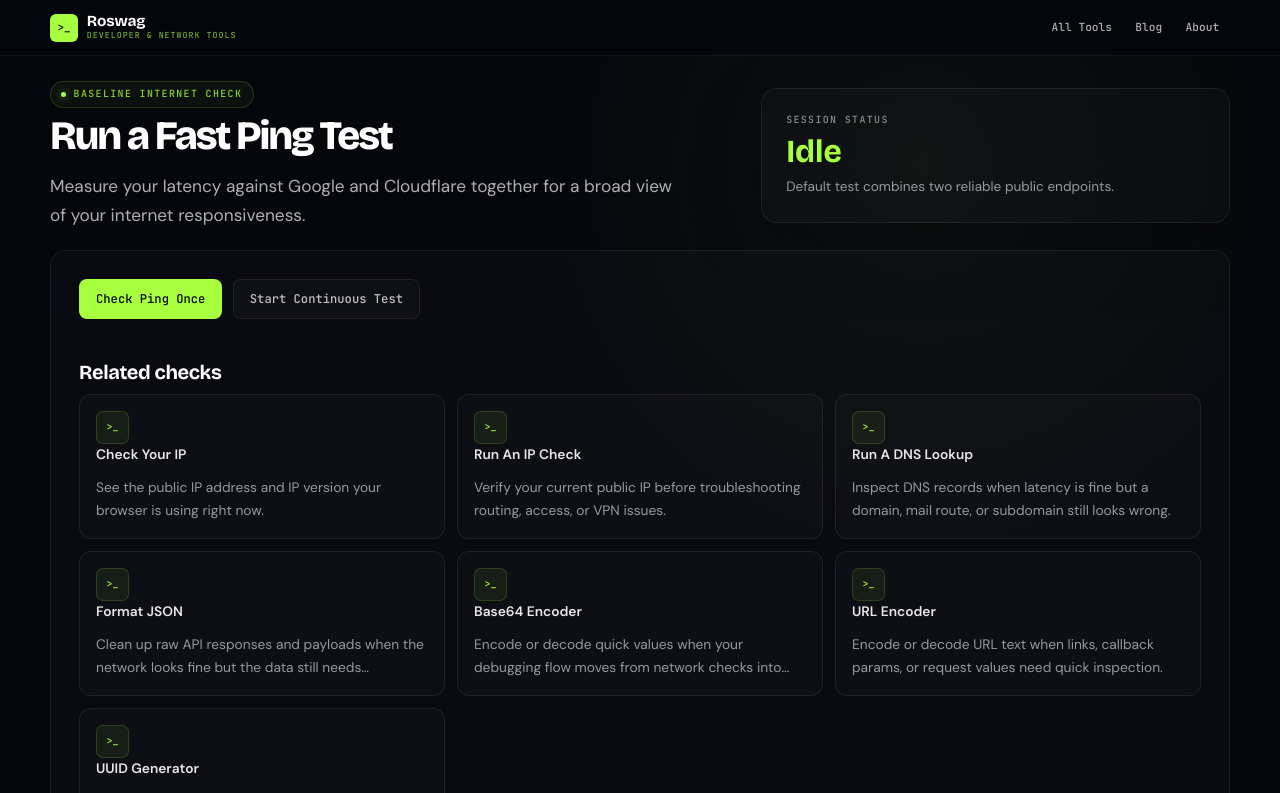
Scenario: PingPage › shows an error message when the ping request fails
Click the button "Check Ping Once". click: point(151, 299)
box: [79, 279, 222, 319]
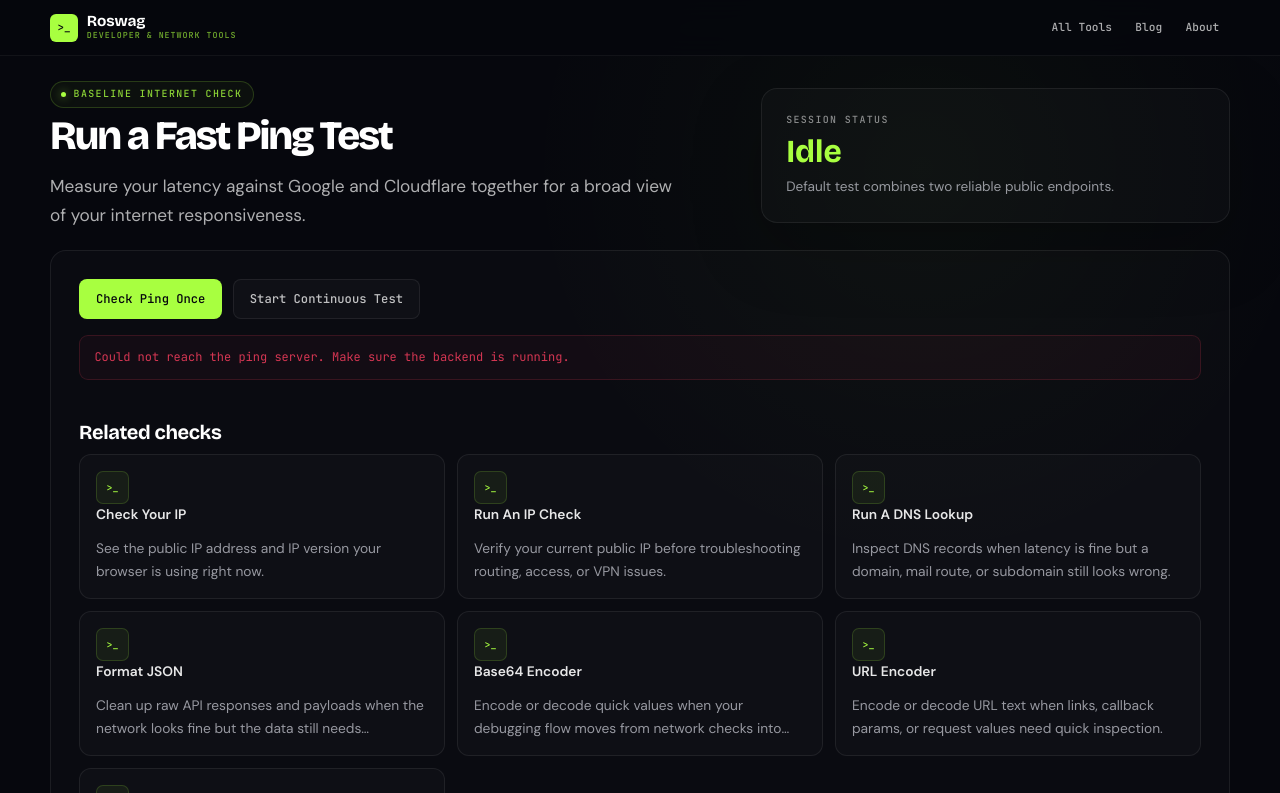
Now the text "Could not reach the ping server. Make sure the backend is running." is shown, box [79, 335, 1201, 380]
